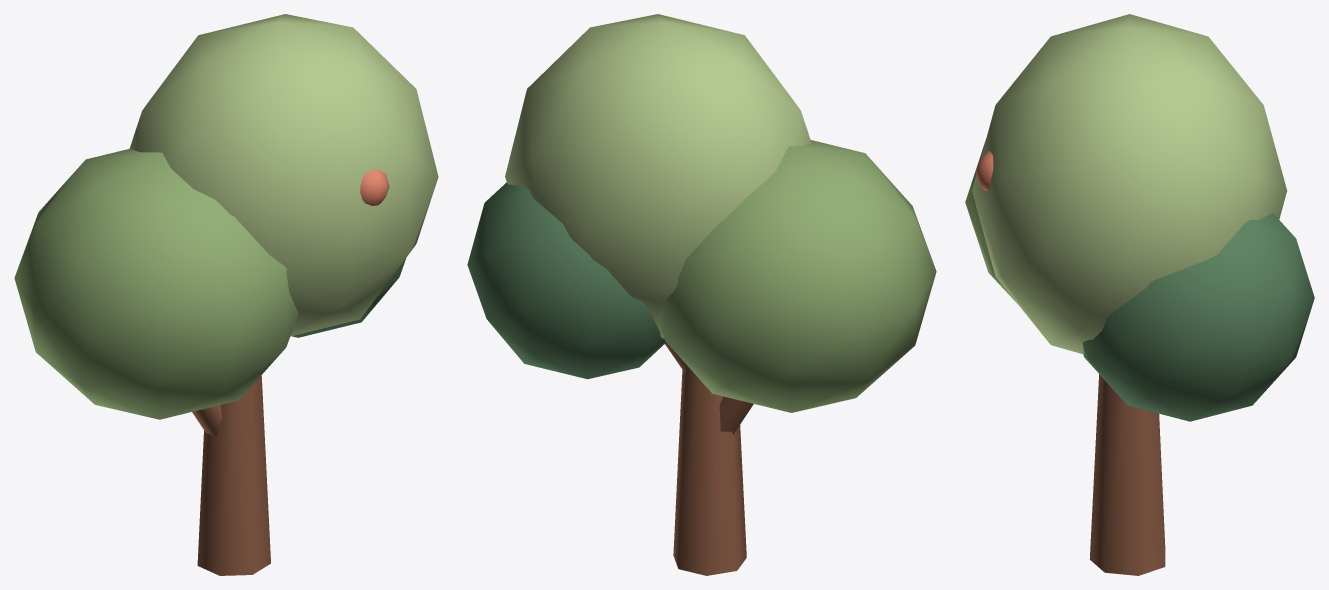
The model's file is fruit-tree.glb.
3 renders of one model, left to right at view 1: azimuth 30°, elevation 25°; view 2: azimuth 150°, elevation 25°; view 3: azimuth 270°, elevation 25°, orthographic. The views are drawn at different scales.
Parts seen in each view (by area): view 1: surface_#b0c58a, surface_#8da970, surface_#936047, surface_#df8269, surface_#577d5b; view 2: surface_#b0c58a, surface_#8da970, surface_#577d5b, surface_#936047; view 3: surface_#b0c58a, surface_#577d5b, surface_#936047, surface_#8da970, surface_#df8269.
Boxes of the visible parts, x1,y1,x2,y2 form: surface_#b0c58a: (129, 14, 438, 336); surface_#8da970: (14, 149, 298, 419); surface_#936047: (192, 375, 270, 575); surface_#df8269: (360, 169, 389, 205); surface_#577d5b: (292, 258, 406, 337); surface_#b0c58a: (505, 14, 811, 338); surface_#8da970: (657, 140, 936, 412); surface_#577d5b: (467, 182, 666, 379); surface_#936047: (665, 342, 753, 575); surface_#b0c58a: (972, 14, 1287, 354); surface_#577d5b: (1082, 213, 1314, 421); surface_#936047: (1089, 374, 1165, 575); surface_#8da970: (965, 140, 1017, 303); surface_#df8269: (975, 151, 993, 190).
Size of the model in its own units: 2.82 by 3.54 by 2.02.
